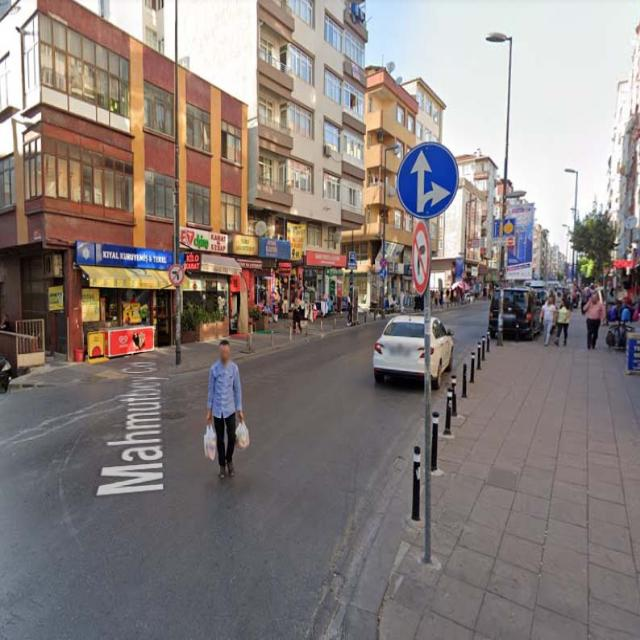ilerisag: (397, 143, 459, 218)
sagadonulmez: (412, 223, 429, 295)
soladonulmez: (168, 264, 184, 286)
